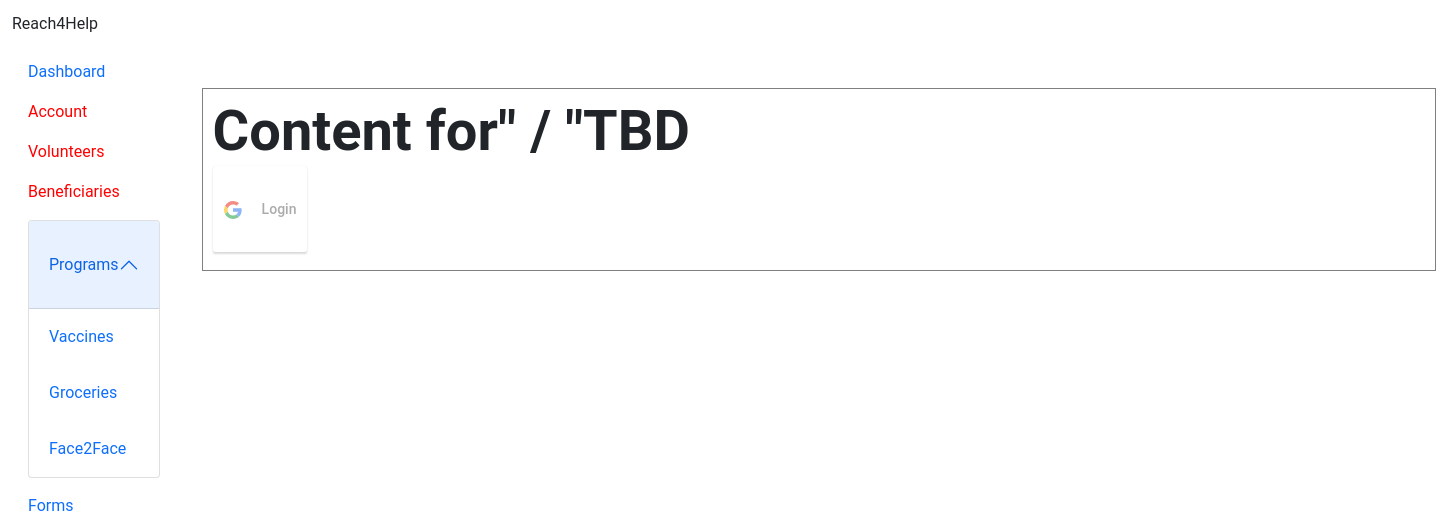
Navigation test › Main Navbar › navigates to account page correctly and loads content correctly
Step 1. Click the link with test id "account" → (58, 112), box x1=28 y1=102 x2=87 y2=121
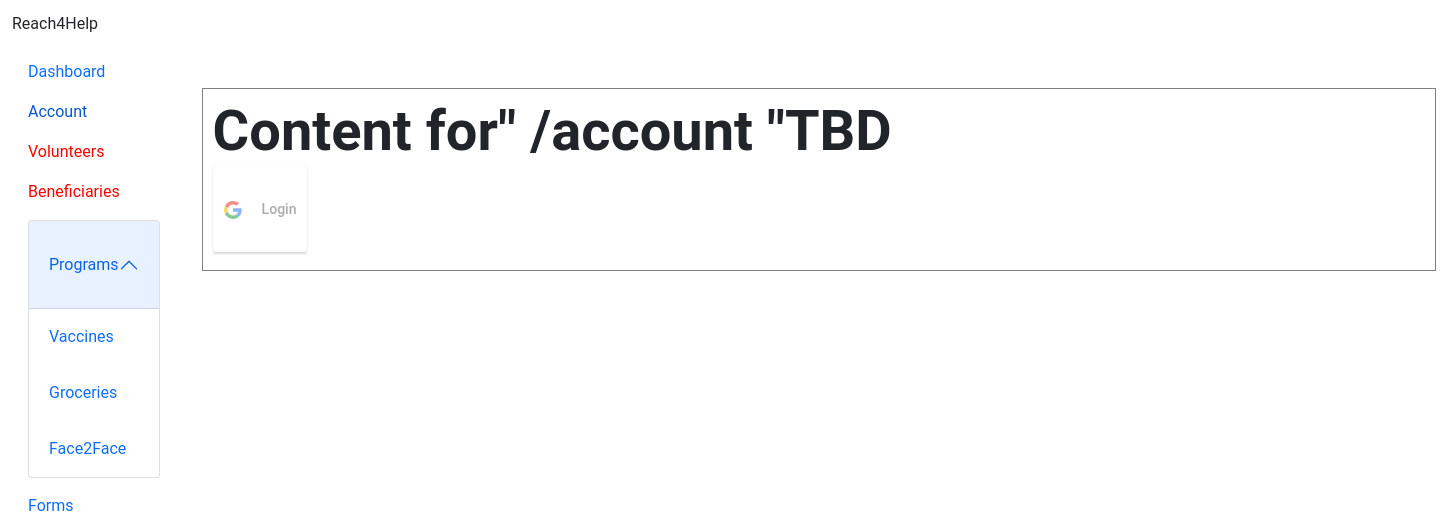
Expected: the heading "Content for\" /account \"TBD Login" is shown, x1=213 y1=98 x2=892 y2=252
